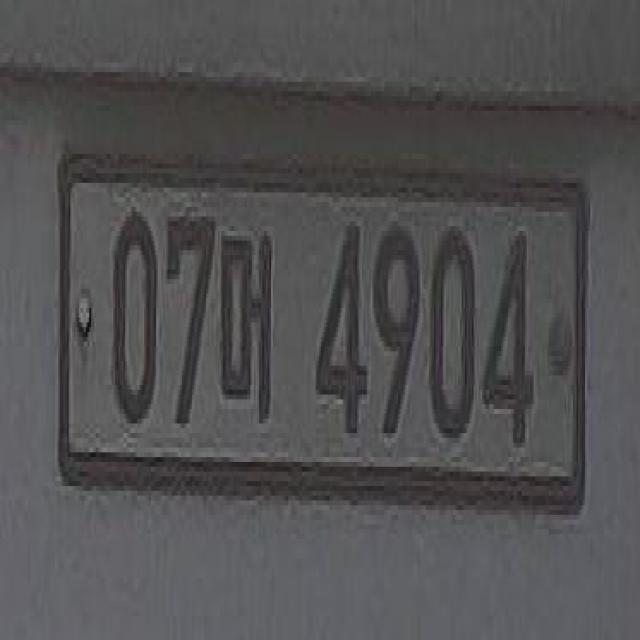illegal_plate: (59, 158, 593, 532)
